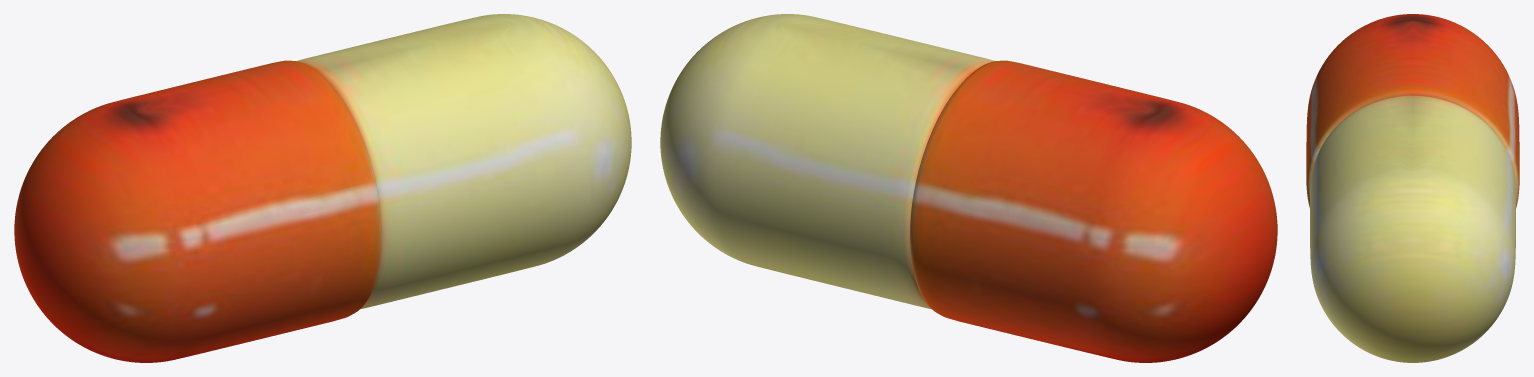
The model's file is 20140311GOPHDRGPT02798.fbx.
The picture shows the model from 3 angles, left to right: view 1: azimuth 30°, elevation 25°; view 2: azimuth 150°, elevation 25°; view 3: azimuth 270°, elevation 25°; orthographic projection. The views are drawn at different scales.
Parts seen in each view (by area): view 1: Sphere; view 2: Sphere; view 3: Sphere.
Boxes of the visible parts, x1,y1,x2,y2 form: Sphere: (14, 14, 631, 362); Sphere: (660, 14, 1277, 362); Sphere: (1306, 14, 1519, 362).
Bounding box in the file's own units: 1.5 × 0.5937 × 0.5916.
